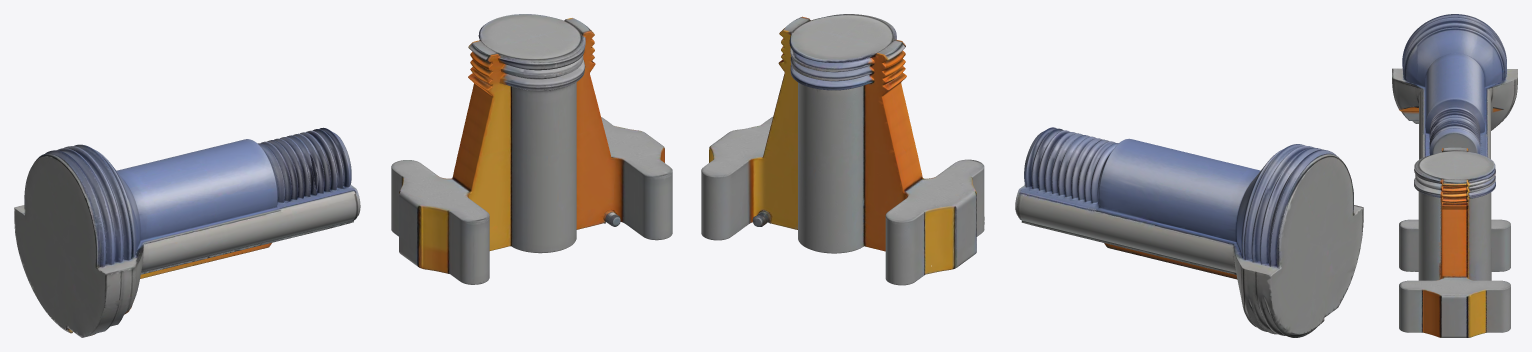
The model's file is AccesorioConexionChangeOver.glb.
3 renders of one model, left to right at view 1: azimuth 30°, elevation 25°; view 2: azimuth 150°, elevation 25°; view 3: azimuth 270°, elevation 25°, orthographic. The views are drawn at different scales.
Visible parts, largest first — view 1: tripo_node_8a091d51-65ce-4cd7-9b4c-8f964c40fd94; view 2: tripo_node_8a091d51-65ce-4cd7-9b4c-8f964c40fd94; view 3: tripo_node_8a091d51-65ce-4cd7-9b4c-8f964c40fd94.
Part boxes in pixels (x1,y1,x2,y2): tripo_node_8a091d51-65ce-4cd7-9b4c-8f964c40fd94: (14, 14, 672, 337); tripo_node_8a091d51-65ce-4cd7-9b4c-8f964c40fd94: (701, 14, 1363, 337); tripo_node_8a091d51-65ce-4cd7-9b4c-8f964c40fd94: (1392, 14, 1517, 337).
Bounding box in the file's own units: 0.9783 × 0.3087 × 0.2627.
Materials: 1 (1 with a texture image).
